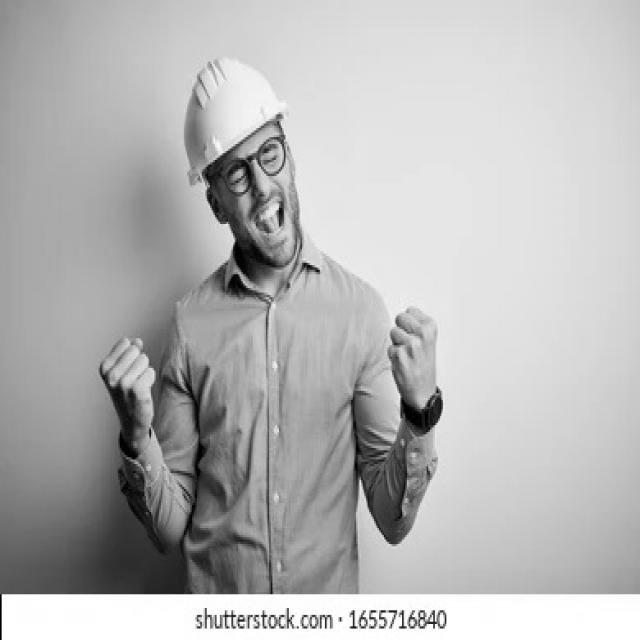construction helmet: (184, 57, 289, 187)
